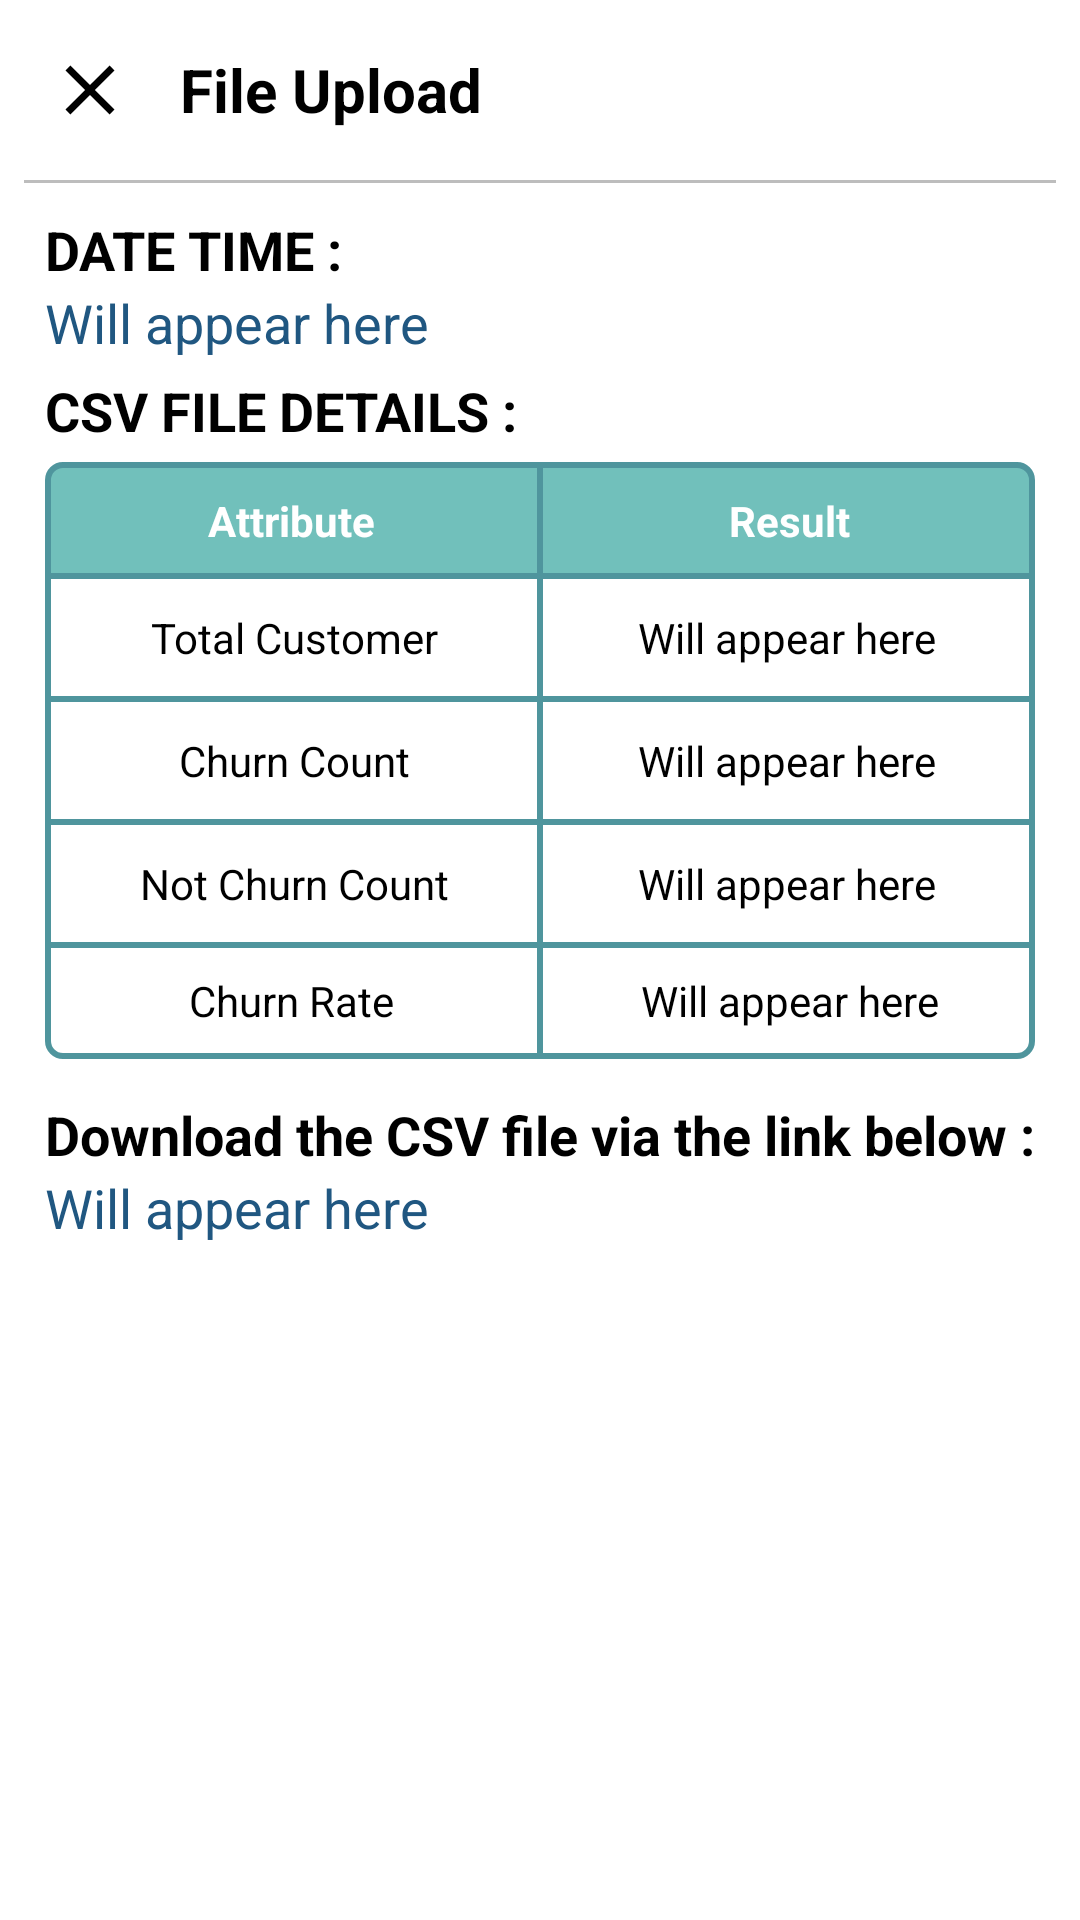

Named icons in this screenshot (1080 x 1920) and their centers, [x,y]:
close: [90,90]
